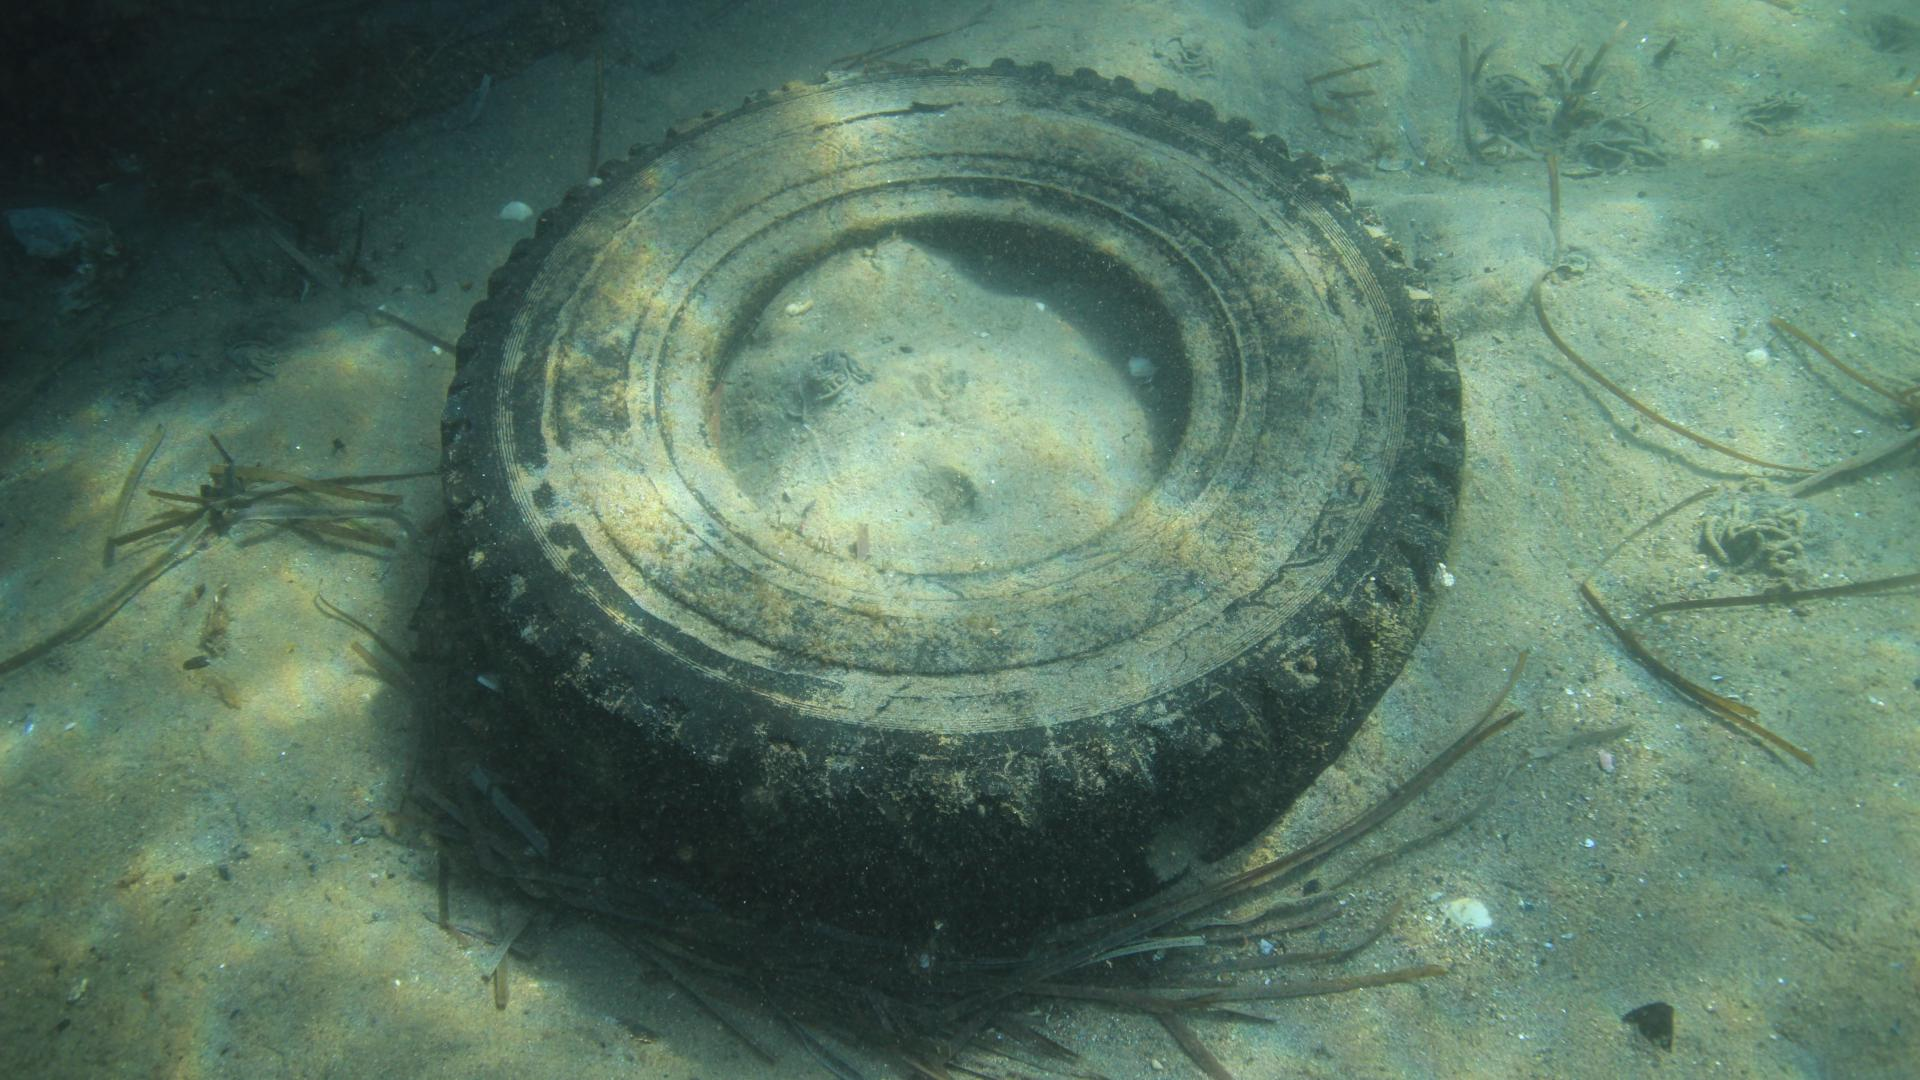tire: (436, 55, 1460, 942)
